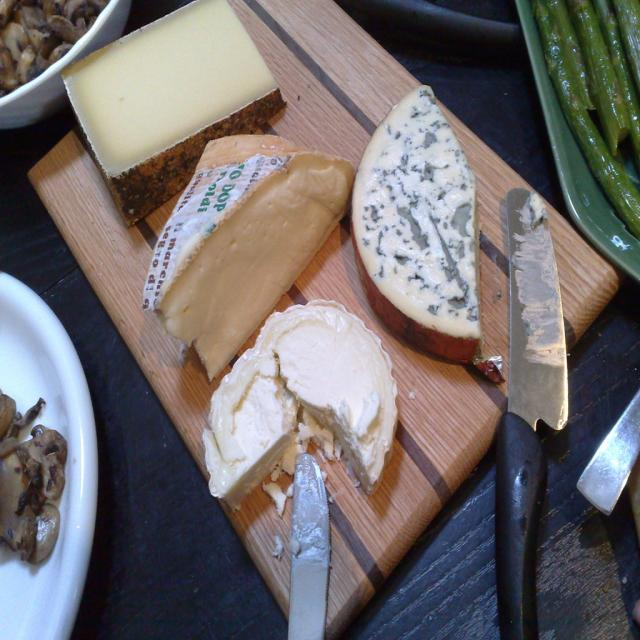Cheese: (141, 130, 359, 383), (60, 0, 289, 230), (208, 293, 399, 517), (350, 83, 485, 369)
